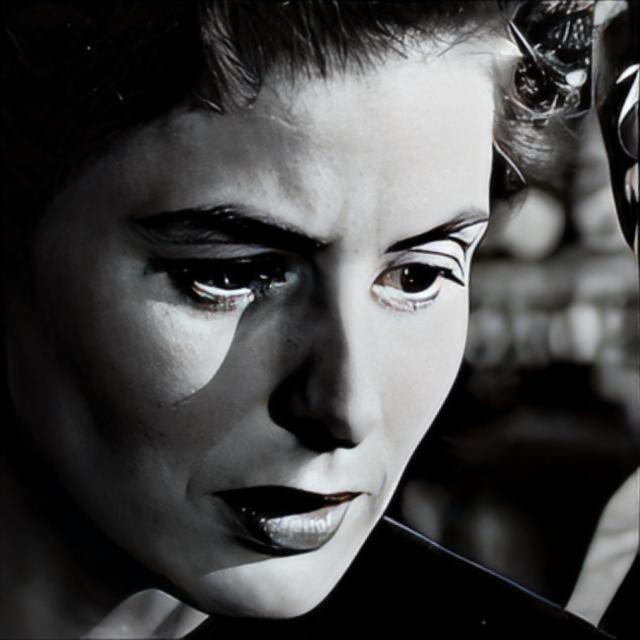sad: (19, 0, 498, 623)
